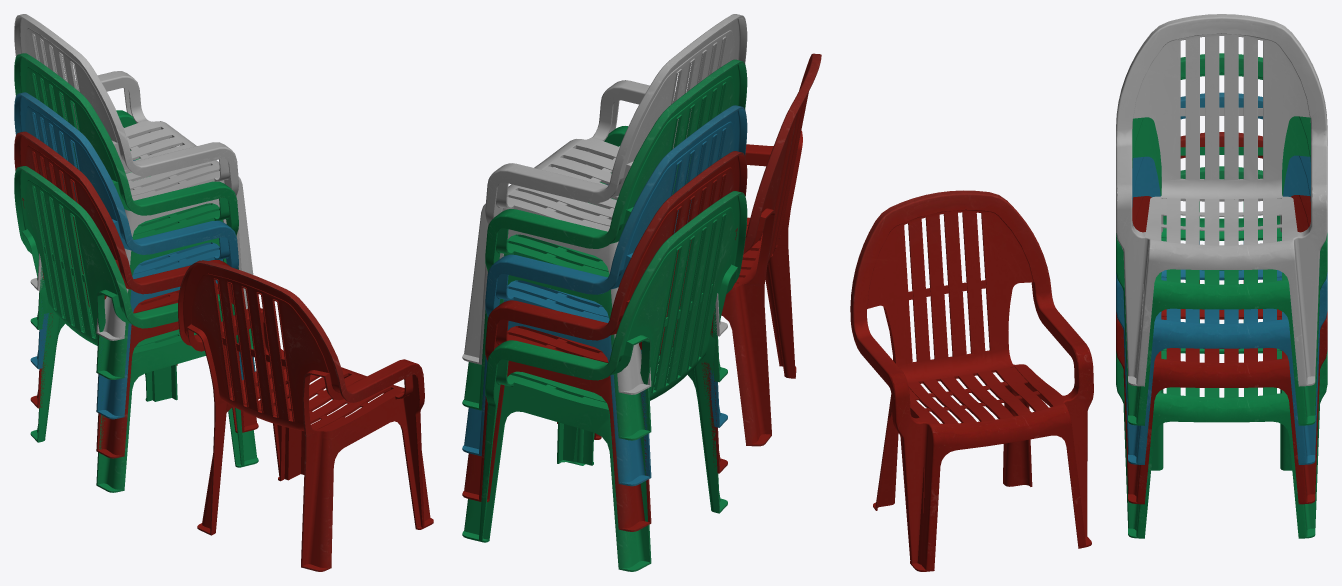
The model's file is chair.glb.
3 views of the same model, side by side, from view 1: azimuth 30°, elevation 25°; view 2: azimuth 150°, elevation 25°; view 3: azimuth 270°, elevation 25° (orthographic). The views are drawn at different scales.
Visible parts, largest first — view 1: Object_6, Object_2, Object_7, Object_3, Object_4, Object_5; view 2: Object_2, Object_7, Object_3, Object_4, Object_5, Object_6; view 3: Object_6, Object_7, Object_3, Object_4, Object_5, Object_2.
Part boxes in pixels (x1,y1,x2,y2): Object_6: (178,260,433,571); Object_2: (14,166,258,492); Object_7: (14,14,253,340); Object_3: (14,53,253,379); Object_4: (14,92,255,419); Object_5: (14,131,258,458); Object_2: (462,191,747,571); Object_7: (462,14,747,394); Object_3: (462,59,747,440); Object_4: (462,105,747,486); Object_5: (462,151,747,531); Object_6: (594,53,821,446); Object_6: (850,190,1093,571); Object_7: (1116,14,1327,386); Object_3: (1116,53,1327,425); Object_4: (1116,92,1327,464); Object_5: (1116,132,1327,504); Object_2: (1116,166,1327,538).
Bounding box in the file's own units: 33.8 × 58.89 × 57.86.
Materials: 4 (4 with a texture image).
